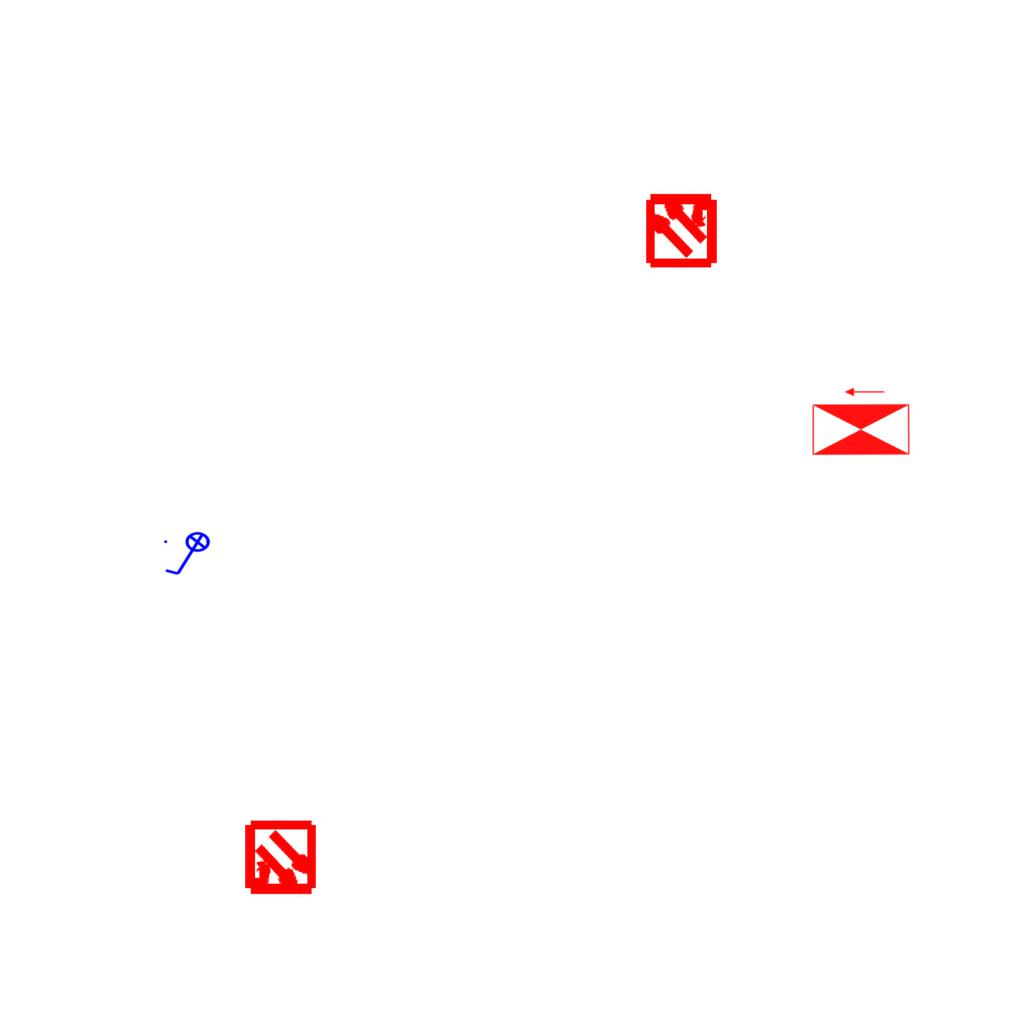Ausschalter_beleuchtet: (161, 531, 217, 579)
Fluchtwegpiktogramm: (809, 385, 913, 458)
OT_Multisensormelder_(Kombination_RMO_WMD): (625, 172, 738, 285), (224, 803, 337, 916)
